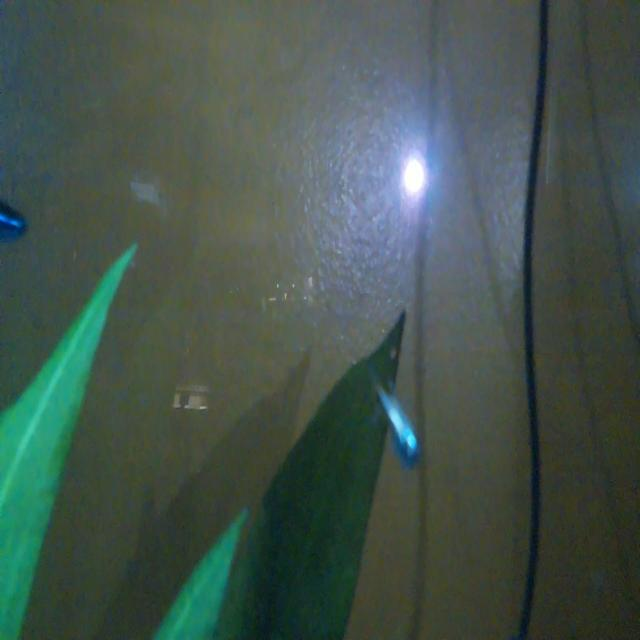fish: (359, 358, 425, 474)
